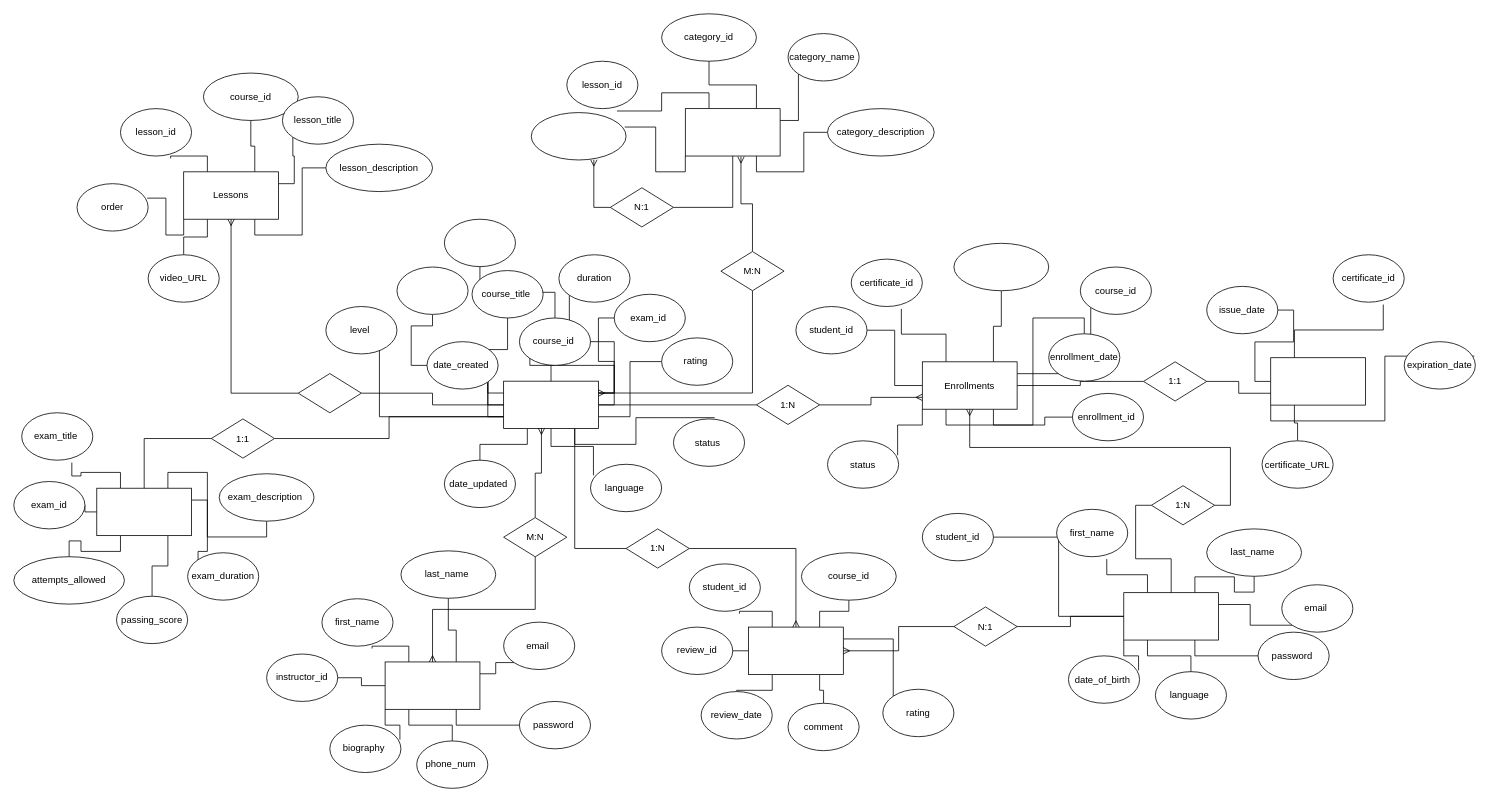
Image size: 1489x803. Some labels were removed from this diagram. The shapes that lost their labels are listed below. From the top down, each one's box as (x1, y1, x2, y2) in pixels, then its label:
(530, 112, 626, 160): parent_category_id
(685, 108, 780, 156): Categories
(444, 218, 515, 267): description
(953, 243, 1049, 291): completion_date
(396, 266, 468, 314): price
(297, 373, 361, 413): M:1
(1270, 357, 1366, 405): Certificates
(503, 380, 598, 429): Courses
(96, 487, 192, 536): Exams
(1123, 592, 1219, 640): Students
(748, 626, 843, 675): Reviews
(384, 661, 480, 709): Instructors
